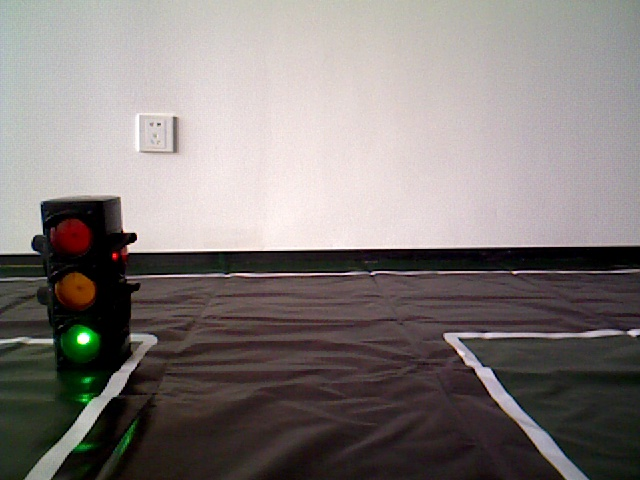green: (46, 202, 127, 361)
